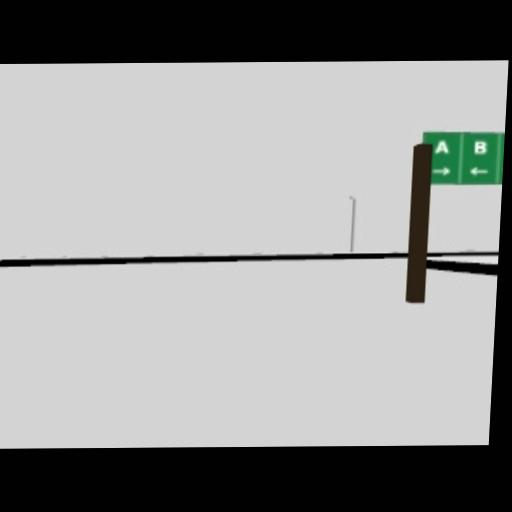A: (434, 138, 450, 152)
B: (473, 139, 488, 153)
Left: (468, 165, 488, 174)
Right: (431, 165, 451, 174)
